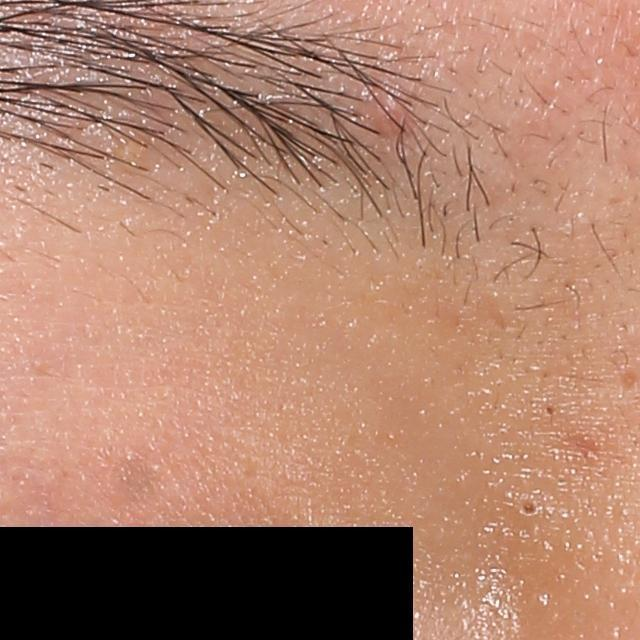atrophic_scar: (618, 368, 638, 394)
comedo: (507, 489, 548, 527)
papule: (369, 77, 418, 134)
